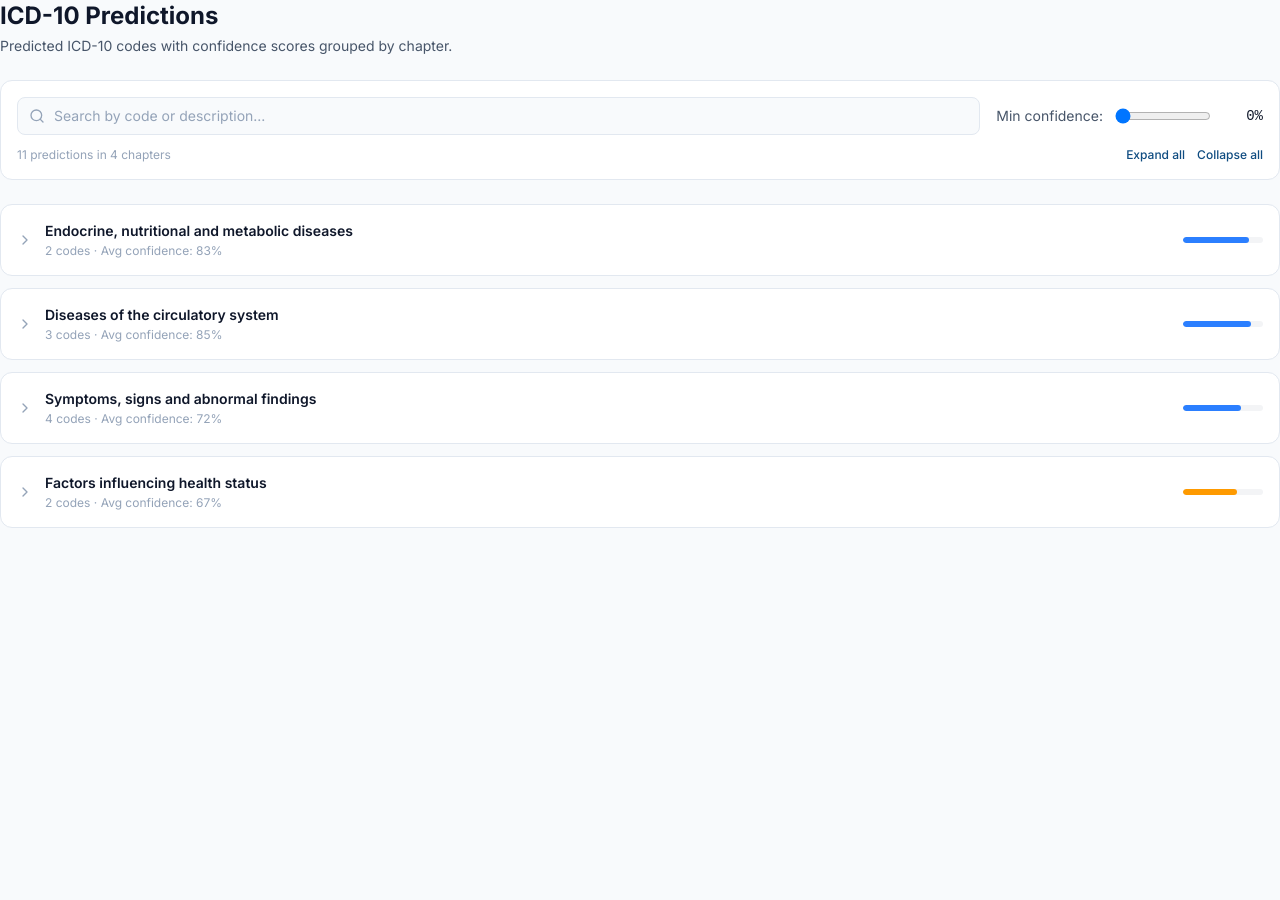
Test: ICDResults › "Collapse all" hides all codes
Click the button "Expand all" at coordinates (1156, 155), box top-left (1126, 147), bottom-right (1185, 163)
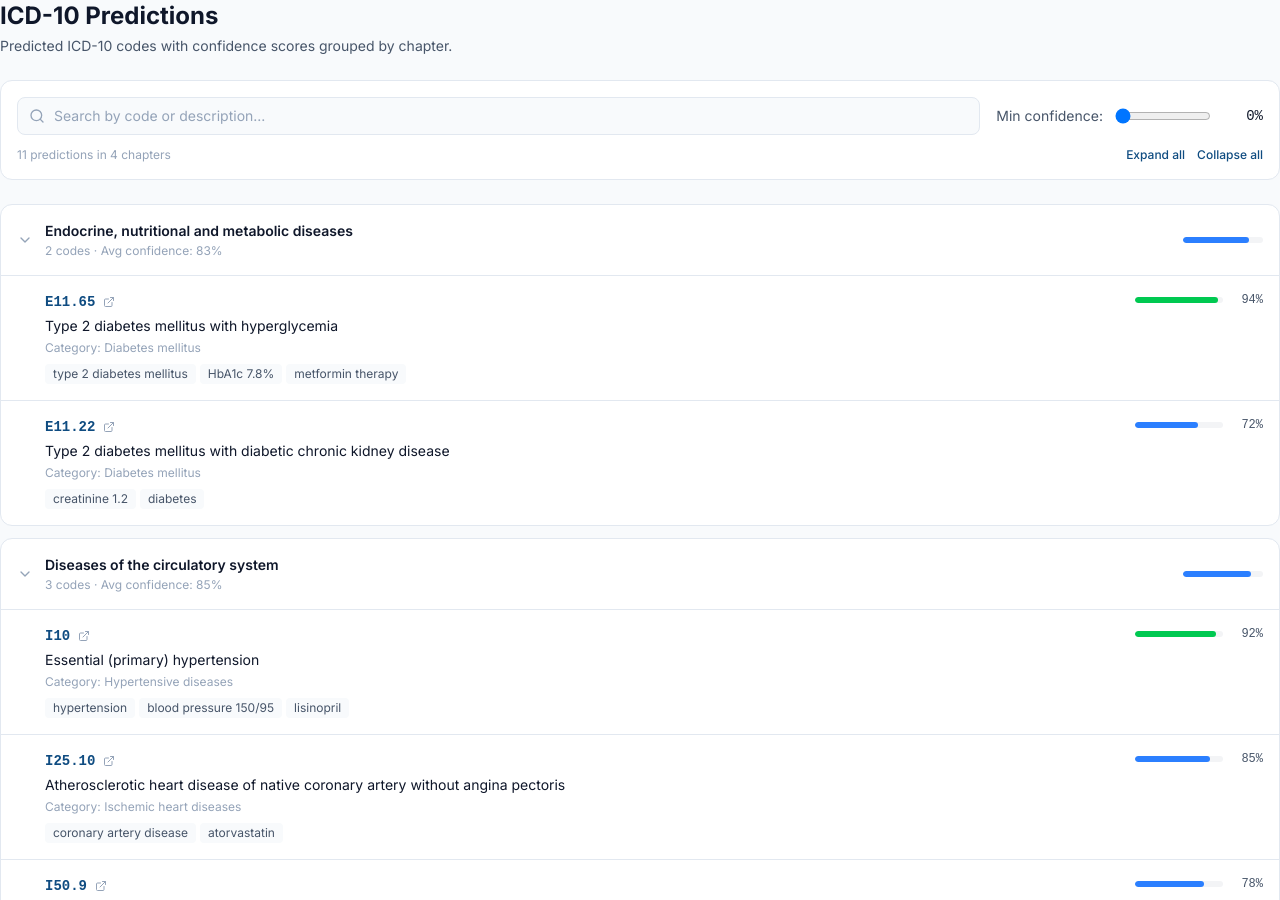
Expected: the text "E11.65" is shown, top-left (45, 292), bottom-right (95, 312)
Click the button "Collapse all" at coordinates (1230, 155), box top-left (1197, 147), bottom-right (1263, 163)
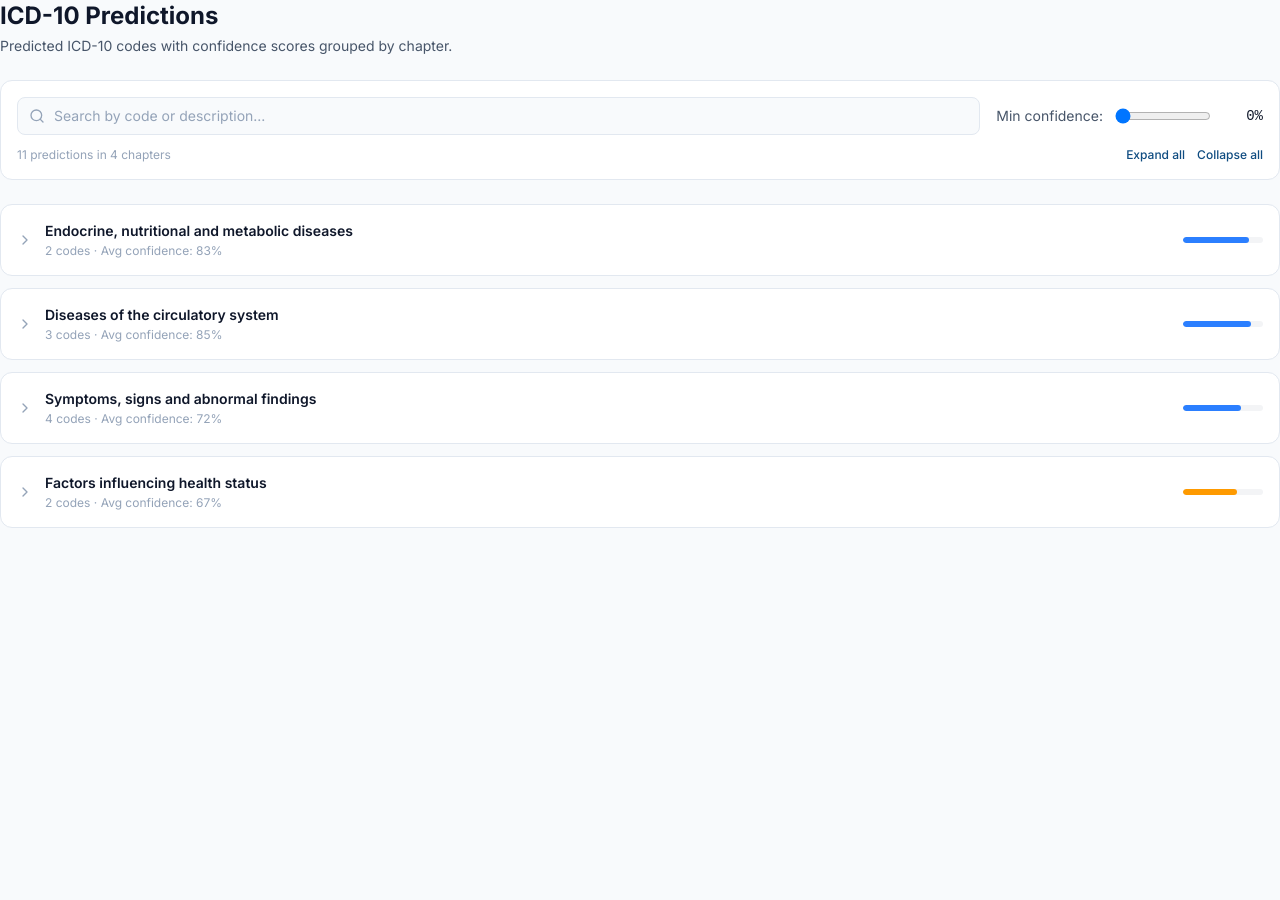
Expected: the text "E11.65" is gone
